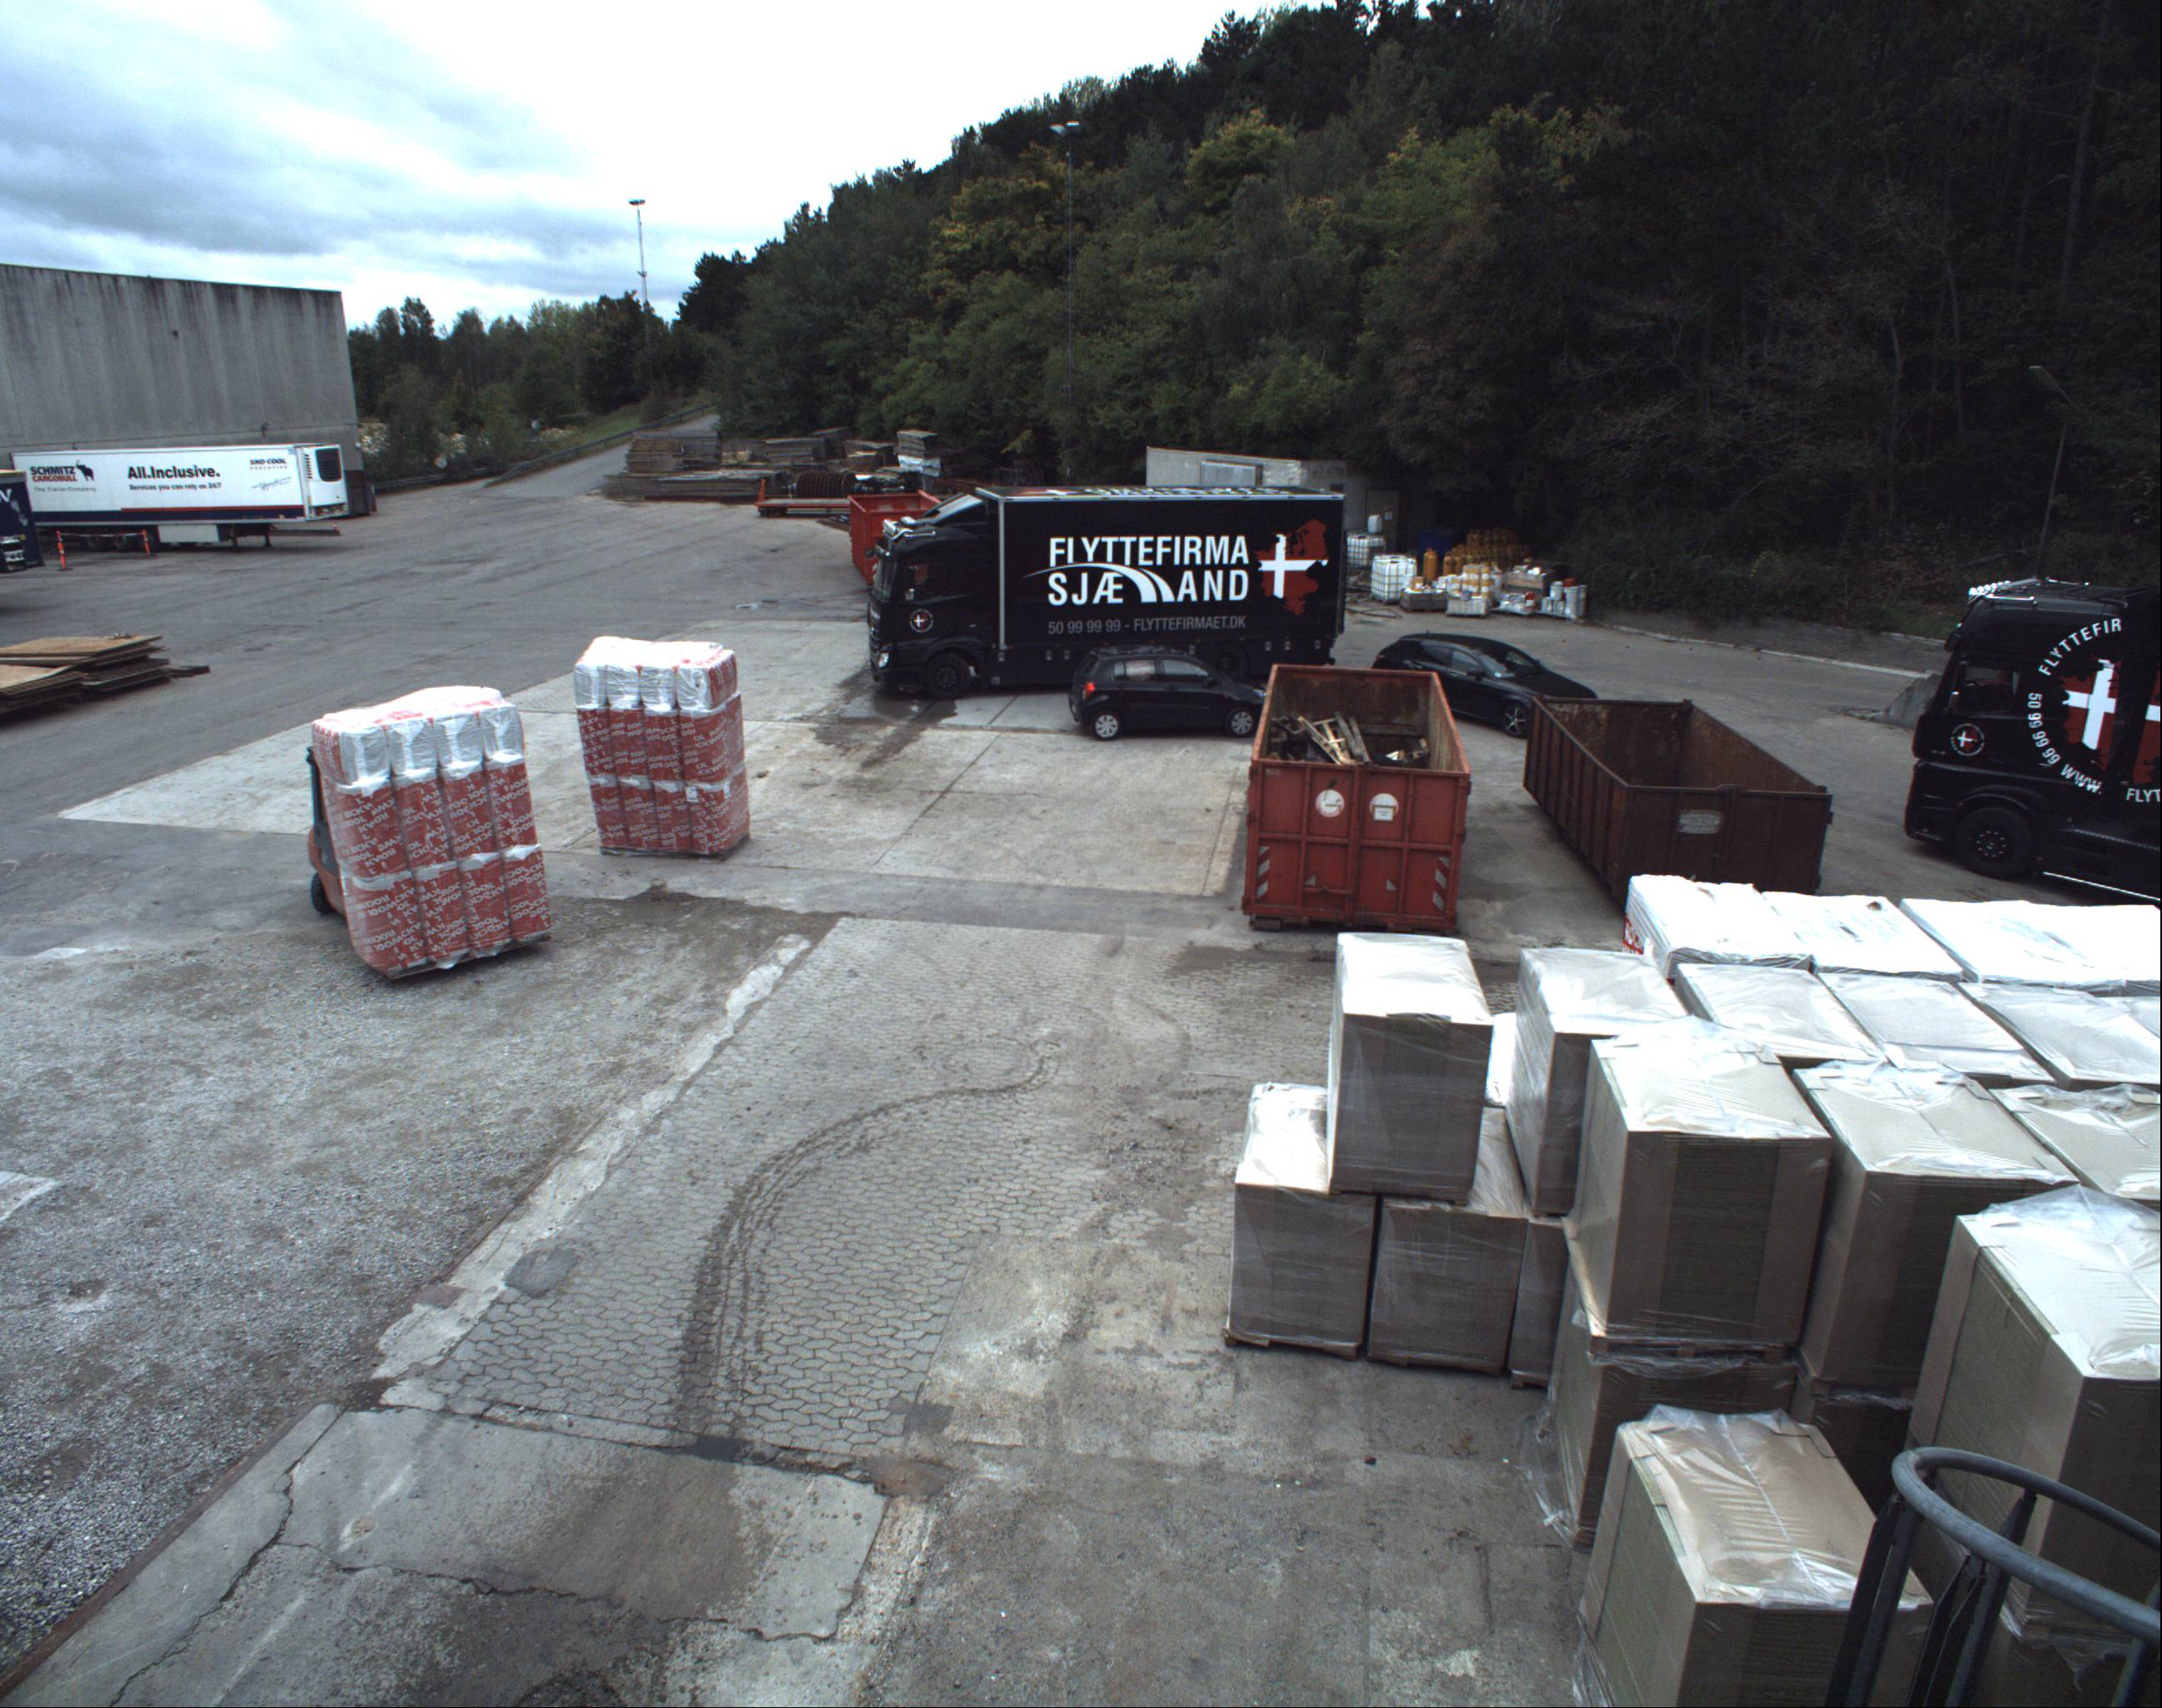rockwool_batts: (288, 674, 555, 976), (570, 620, 748, 864)
